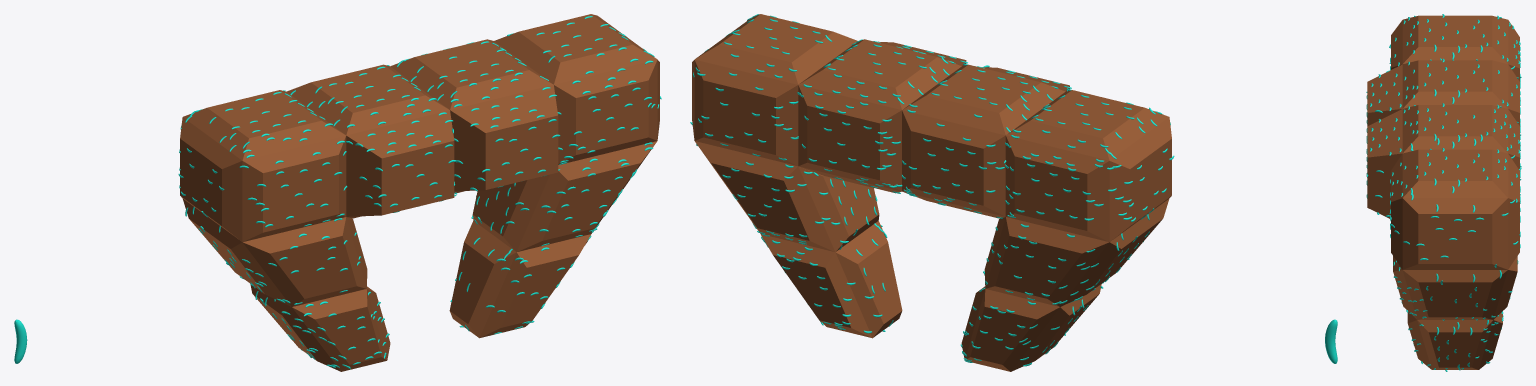
File: DoorChocolate.fbx
The picture shows the model from 3 angles, left to right: view 1: azimuth 30°, elevation 25°; view 2: azimuth 150°, elevation 25°; view 3: azimuth 270°, elevation 25°; orthographic projection. The views are drawn at different scales.
Parts seen in each view (by area): view 1: Cube; view 2: Cube; view 3: Cube.
Boxes of the visible parts, x1=… form: Cube: x1=180, y1=14, x2=659, y2=371; Cube: x1=692, y1=14, x2=1171, y2=371; Cube: x1=1367, y1=15, x2=1519, y2=369.
Size of the model in its own units: 2715 by 1105 by 663.
